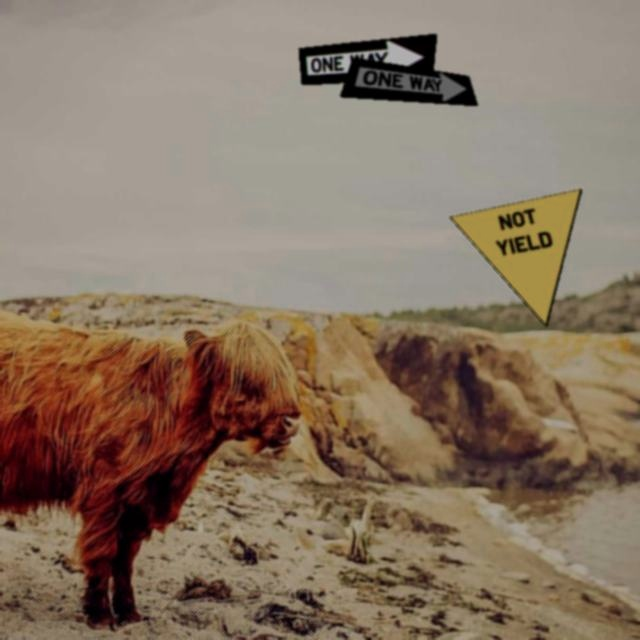NOT_YIELD: (449, 188, 582, 327)
ONE_WAY_ right: (298, 33, 437, 85), (339, 57, 478, 106)
